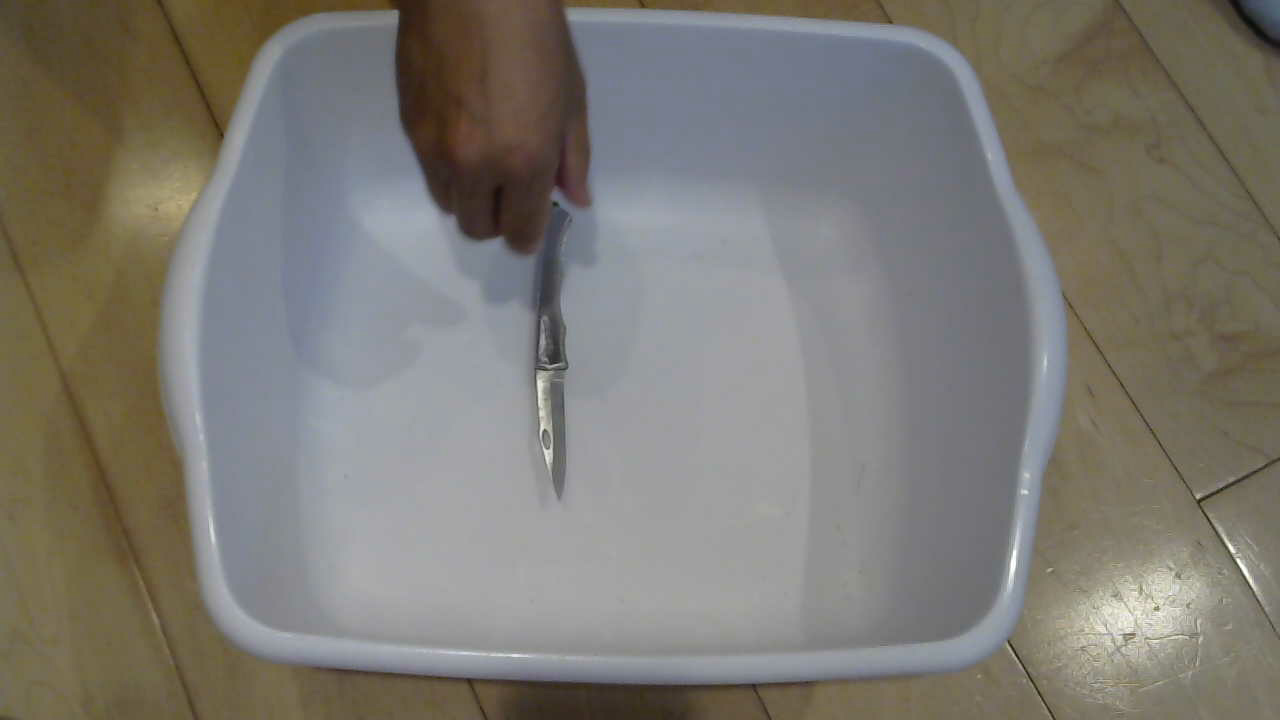knife: (495, 208, 614, 540)
